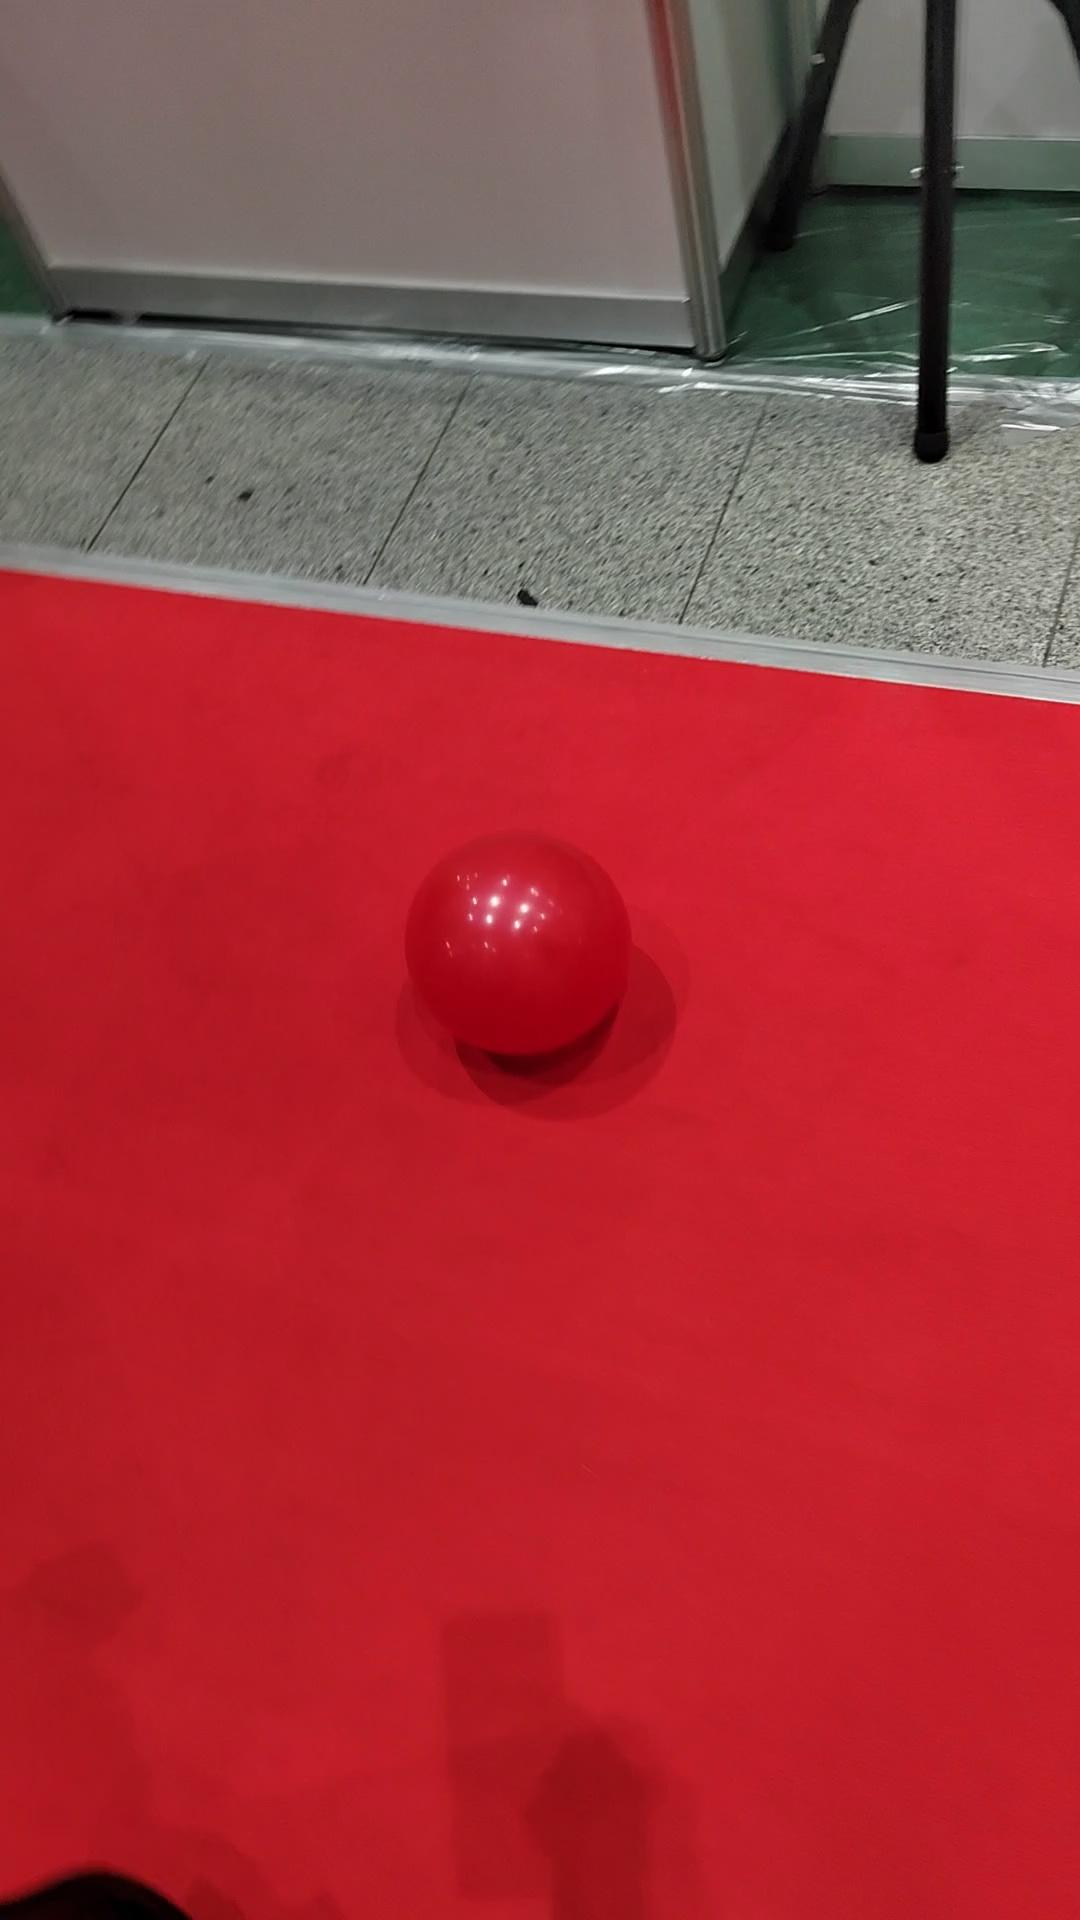red: (404, 831, 630, 1056)
